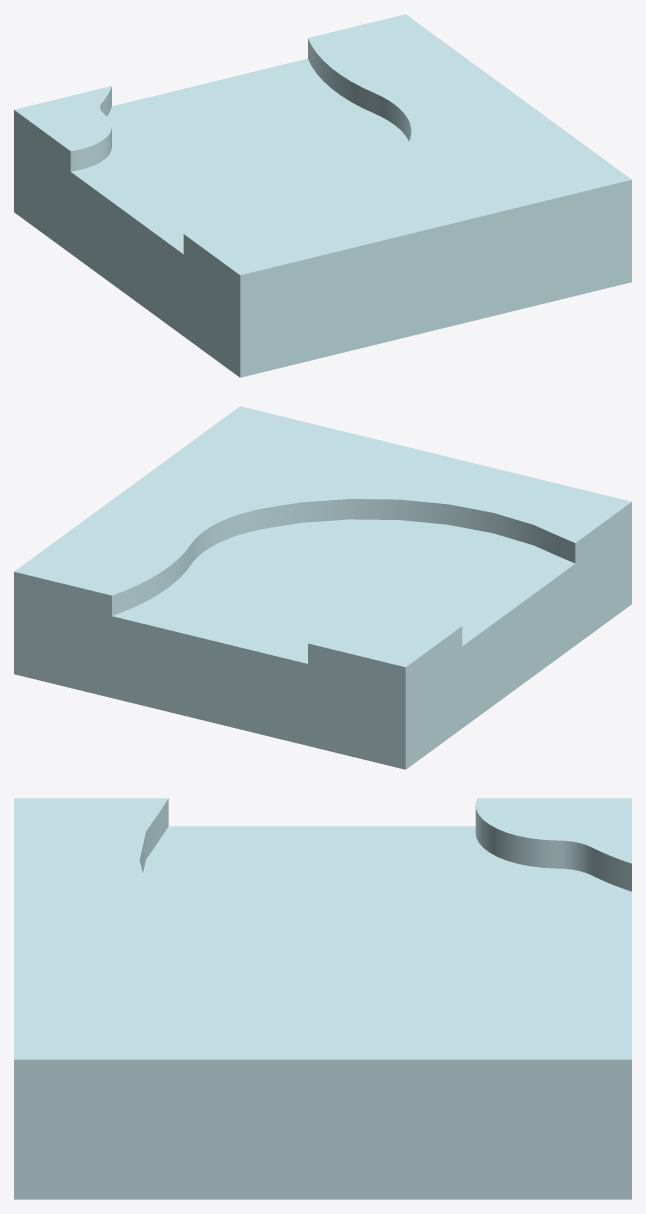
Rendered from ground_dirtRiverCornerBank.fbx.
3 renders of one model, top to bottom at view 1: azimuth 30°, elevation 25°; view 2: azimuth 150°, elevation 25°; view 3: azimuth 270°, elevation 25°, orthographic. The views are drawn at different scales.
Parts seen in each view (by area): view 1: ground_dirtRiverCornerBank; view 2: ground_dirtRiverCornerBank; view 3: ground_dirtRiverCornerBank.
Boxes of the visible parts, box(x1,y1,x2,y2) form: ground_dirtRiverCornerBank: box(14, 14, 631, 377); ground_dirtRiverCornerBank: box(14, 406, 631, 769); ground_dirtRiverCornerBank: box(14, 798, 631, 1199).
Bounding box in the file's own units: 300 × 75 × 300.
